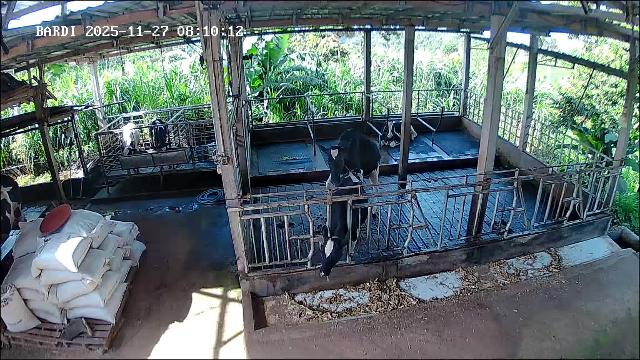mounting: (317, 129, 381, 213)
